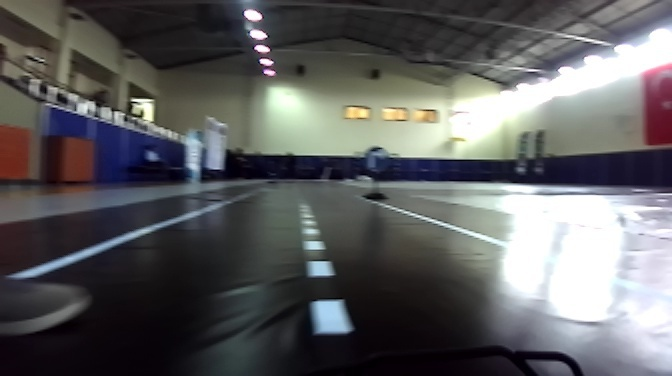saga_donus: (364, 144, 394, 177)
